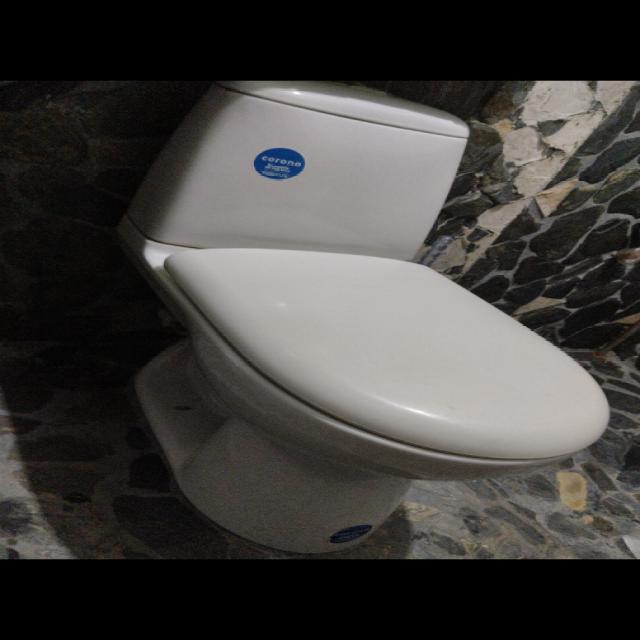toilet: (115, 79, 610, 554)
